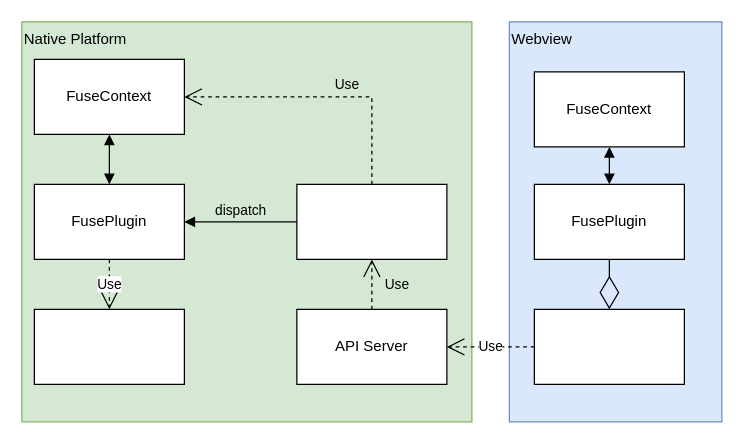
Some shapes in this 744 by 444 pixel diagram are drawn without their labels. The box of each missing label's shape, as (x1, y1, x2, y2) in pixels:
Device APIs: (33, 308, 184, 384)
FuseAPI: (533, 308, 684, 384)
FuseAPIRouter: (296, 183, 447, 259)
